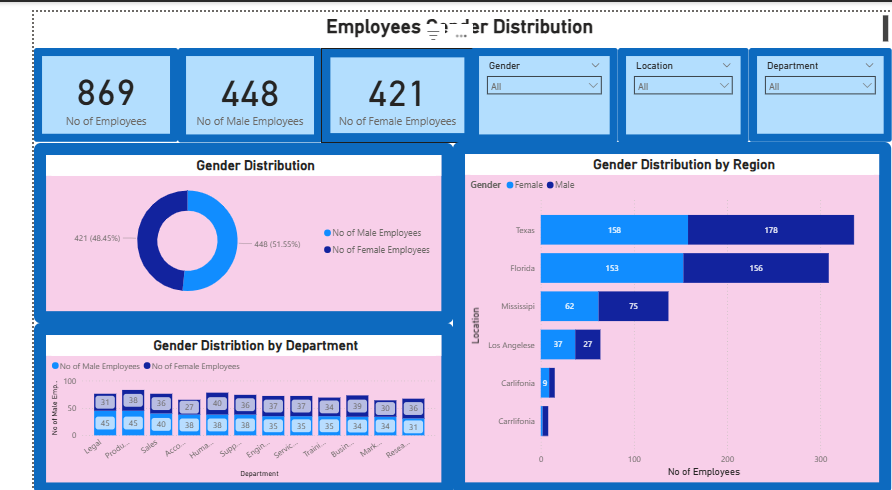

The page's visual inventory and layout, read from the dashboard file:
{"tool":"powerbi","page":{"name":"Employees Gender Distribution","canvas":[1280,720],"ordinal":0},"visuals":[{"type":"textbox","box":[0,0,1279.8,54.4],"z":0},{"type":"card","fields":{"Values":["Gender Distribution 2 (2).No of Employees"]},"box":[0,53.8,215.1,140.4],"z":1000},{"type":"card","fields":{"Values":["Gender Distribution 2 (2).Male Emplpyees"]},"box":[214.5,54.4,214.5,141.1],"z":2000},{"type":"card","fields":{"Values":["Gender Distribution 2 (2).Female Employees"]},"box":[429.1,54.4,227.8,141.1],"z":3000},{"type":"donutChart","title":"Gender Distribution","fields":{"Y":["Gender Distribution 2 (2).Male Emplpyees","Gender Distribution 2 (2).Female Employees"]},"box":[0,195.4,626,268.9],"z":4000},{"type":"lineStackedColumnComboChart","title":"Gender Distribtion by Department","fields":{"Category":["in.Department"],"Y":["Gender Distribution 2 (2).Male Emplpyees","Gender Distribution 2 (2).Female Employees"]},"box":[0,464.3,626,255.7],"z":5000},{"type":"barChart","title":"Gender Distribution by Region","fields":{"Category":["in.Location"],"Y":["Gender Distribution 2 (2).No of Employees"],"Series":["in.Gender"]},"box":[626,194,653.9,526],"z":6000},{"type":"slicer","fields":{"Values":["in.Gender"]},"box":[652.4,54.4,218.9,141.1],"z":7000},{"type":"slicer","fields":{"Values":["in.Department"]},"box":[1066.8,54.4,213.1,139.6],"z":8000},{"type":"slicer","fields":{"Values":["in.Location"]},"box":[871.3,54.4,195.4,141.1],"z":9000}]}

Visuals, with their boxes in screenshot pixels (x1, y1, x2, y2), scaled from the page's 1280x720 canvas onto the 892x490 screenshot:
textbox: bbox(0, 0, 891, 37)
card - Gender Distribution 2 (2).No of Employees: bbox(0, 37, 150, 132)
card - Gender Distribution 2 (2).Male Emplpyees: bbox(149, 37, 299, 133)
card - Gender Distribution 2 (2).Female Employees: bbox(299, 37, 458, 133)
"Gender Distribution" donutChart: bbox(0, 133, 436, 316)
"Gender Distribtion by Department" lineStackedColumnComboChart: bbox(0, 316, 436, 489)
"Gender Distribution by Region" barChart: bbox(436, 132, 891, 489)
slicer - in.Gender: bbox(455, 37, 607, 133)
slicer - in.Department: bbox(743, 37, 891, 132)
slicer - in.Location: bbox(607, 37, 743, 133)
